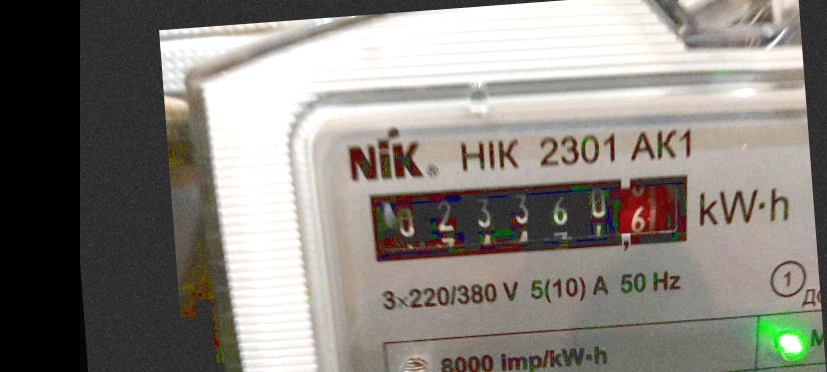0: (393, 202, 418, 238), (586, 184, 610, 220)
2: (433, 197, 457, 234)
3: (472, 194, 495, 231), (511, 191, 531, 226)
6: (548, 191, 570, 226), (627, 200, 647, 234)
screen: (355, 157, 712, 282)
